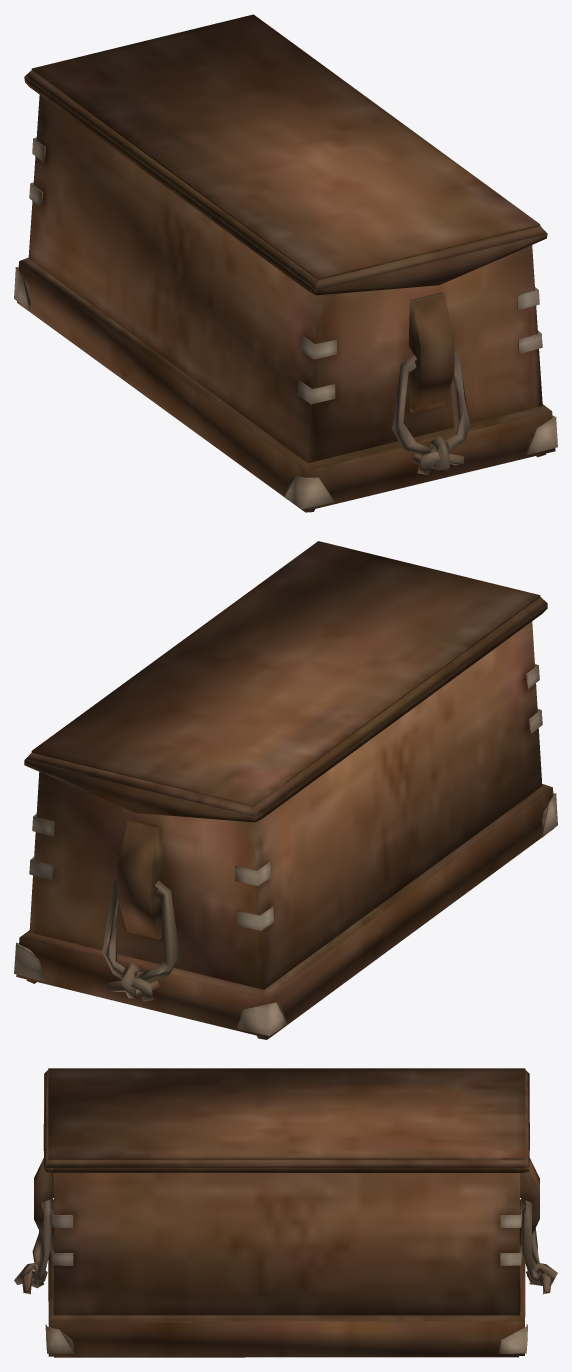
The model's file is wooden_crate_02_lod2.glb.
3 views of the same model, one above another, from view 1: azimuth 30°, elevation 25°; view 2: azimuth 150°, elevation 25°; view 3: azimuth 270°, elevation 25° (orthographic). The views are drawn at different scales.
Parts seen in each view (by area): view 1: wooden_crate_02_crate; view 2: wooden_crate_02_crate; view 3: wooden_crate_02_crate.
Part boxes in pixels (box(x1,y1,x2,y2)): wooden_crate_02_crate: box(14, 14, 557, 512); wooden_crate_02_crate: box(14, 541, 557, 1039); wooden_crate_02_crate: box(14, 1068, 557, 1357).
Size of the model in its own units: 0.529 by 0.4628 by 1.16.
1 material, 1 textured.
